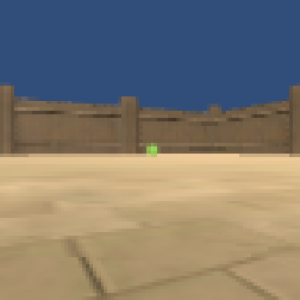goodGoal: (145, 143, 161, 158)
